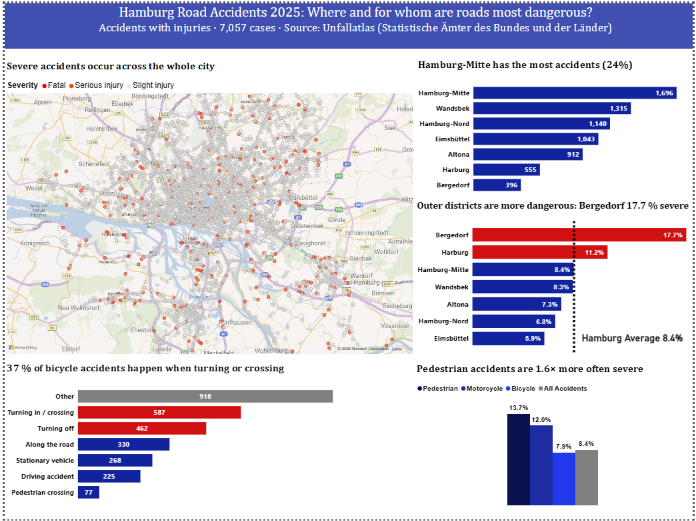

What the dashboard file says about the page in this screenshot:
{"tool":"powerbi","page":{"name":"Where and for Whom?","canvas":[1600,1200],"ordinal":1},"visuals":[{"type":"textbox","title":"                Hamburg Road Accidents 2025: Where and for whom are roads most dangerous?","box":[0,0,1632,104],"z":0},{"type":"map","title":"Severe accidents occur across the whole city","fields":{"Y":["hamburg_accidents_2025_clean.latitude"],"X":["hamburg_accidents_2025_clean.longitude"],"Series":["hamburg_accidents_2025_clean.severity"]},"box":[0,129.2,954.2,689.6],"z":1000},{"type":"clusteredBarChart","title":"Hamburg-Mitte has the most accidents (24%)","fields":{"Category":["hamburg_accidents_2025_clean.district"],"Y":["hamburg_accidents_2025_clean.Total Accidents"]},"box":[954.8,128.6,640.5,328.6],"z":2000},{"type":"clusteredBarChart","title":"37 % of bicycle accidents happen when turning or crossing","fields":{"Category":["hamburg_accidents_2025_clean.accident_type"],"Y":["hamburg_accidents_2025_clean.bicycle_accidents"]},"box":[0,833.4,820.8,339.6],"z":3000},{"type":"clusteredBarChart","title":"Outer districts are more dangerous: Bergedorf 17.7 % severe","fields":{"Y":["hamburg_accidents_2025_clean.% Severe"],"Category":["hamburg_accidents_2025_clean.district"]},"box":[954.5,456.8,645.5,361.4],"z":4000},{"type":"clusteredColumnChart","title":"Pedestrian accidents are 1.6× more often severe","fields":{"Y":["hamburg_accidents_2025_clean.severe_rate_pedestrian","hamburg_accidents_2025_clean.severe_rate_motorcycle","hamburg_accidents_2025_clean.severe_rate_bicycle","hamburg_accidents_2025_clean.% Severe"]},"box":[837.8,833.2,762.2,340],"z":5000},{"type":"textbox","title":"Hamburg Average 8.4%","box":[1333.3,735.4,259.1,36.4],"z":6000}]}

Visuals, with their boxes in screenshot pixels (x1, y1, x2, y2), scaled from the page's 1600x1200 canvas onto the 696x521 screenshot:
"                Hamburg Road Accidents 2025: Where and for whom are roads most dangerous?" textbox: Rect(0, 0, 695, 45)
"Severe accidents occur across the whole city" map: Rect(0, 56, 415, 355)
"Hamburg-Mitte has the most accidents (24%)" clusteredBarChart: Rect(415, 56, 694, 199)
"37 % of bicycle accidents happen when turning or crossing" clusteredBarChart: Rect(0, 362, 357, 509)
"Outer districts are more dangerous: Bergedorf 17.7 % severe" clusteredBarChart: Rect(415, 198, 695, 355)
"Pedestrian accidents are 1.6× more often severe" clusteredColumnChart: Rect(364, 362, 695, 509)
"Hamburg Average 8.4%" textbox: Rect(580, 319, 693, 335)
